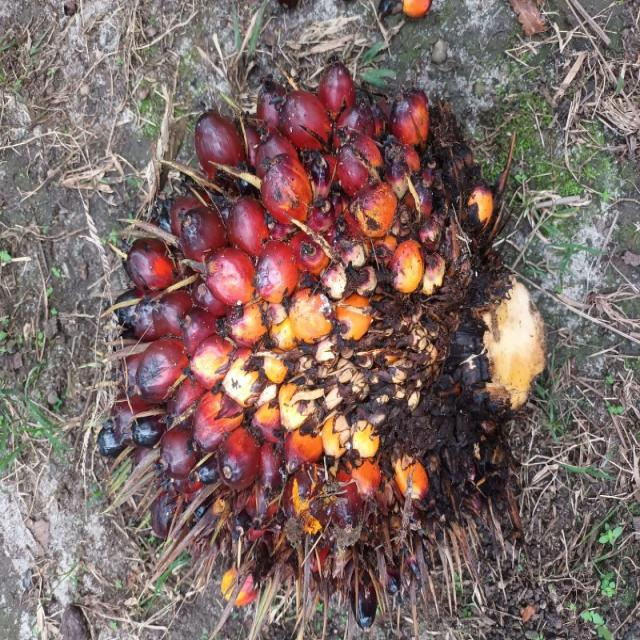fraksi 1: (19, 104, 420, 640)
